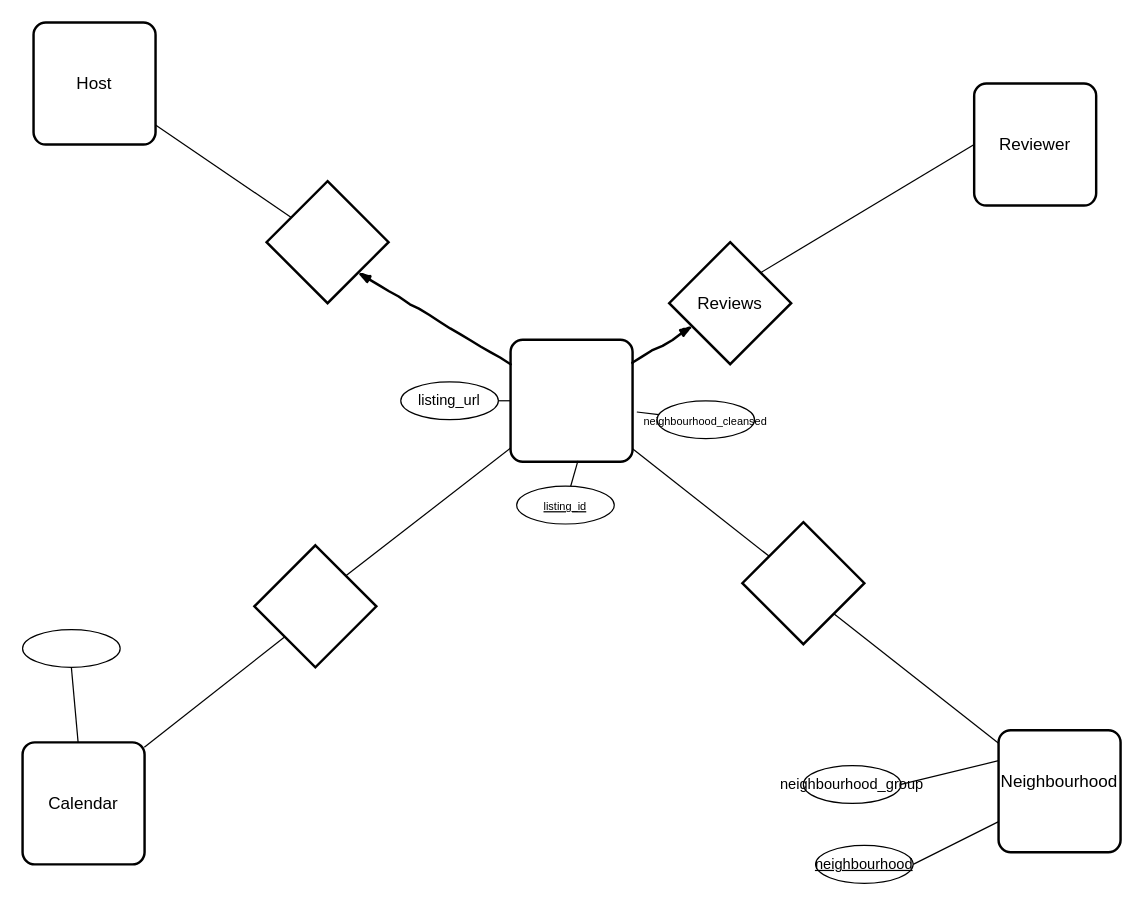
Image size: 1142x904. Some labels were removed from this diagram. The centre of each missing label's shape, as x and y in pixels:
"Creates" goes at [327,241].
"date" goes at [70,647].
"Is available on" goes at [315,606].
"Is located in" goes at [803,582].
"Listings" goes at [571,400].
